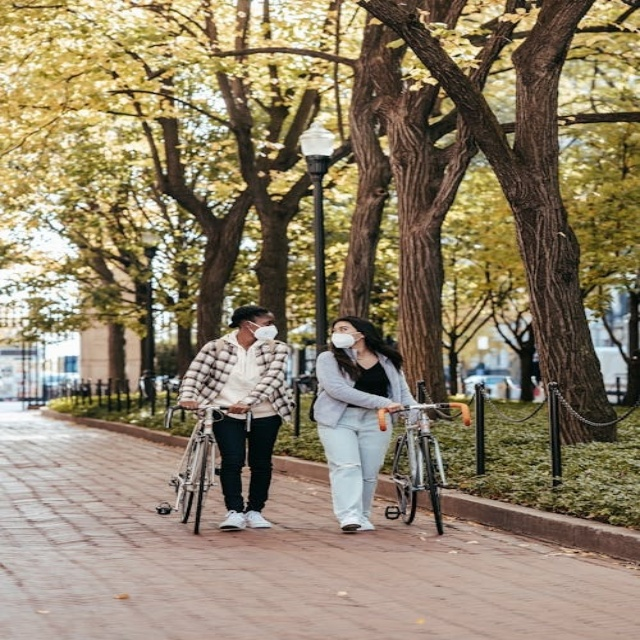Mascara: (248, 322, 278, 341), (330, 332, 360, 348)
Sin_gafas: (251, 318, 275, 325), (332, 325, 356, 332)
Sin_guantes: (221, 406, 248, 415), (179, 400, 200, 411), (386, 404, 404, 413)
